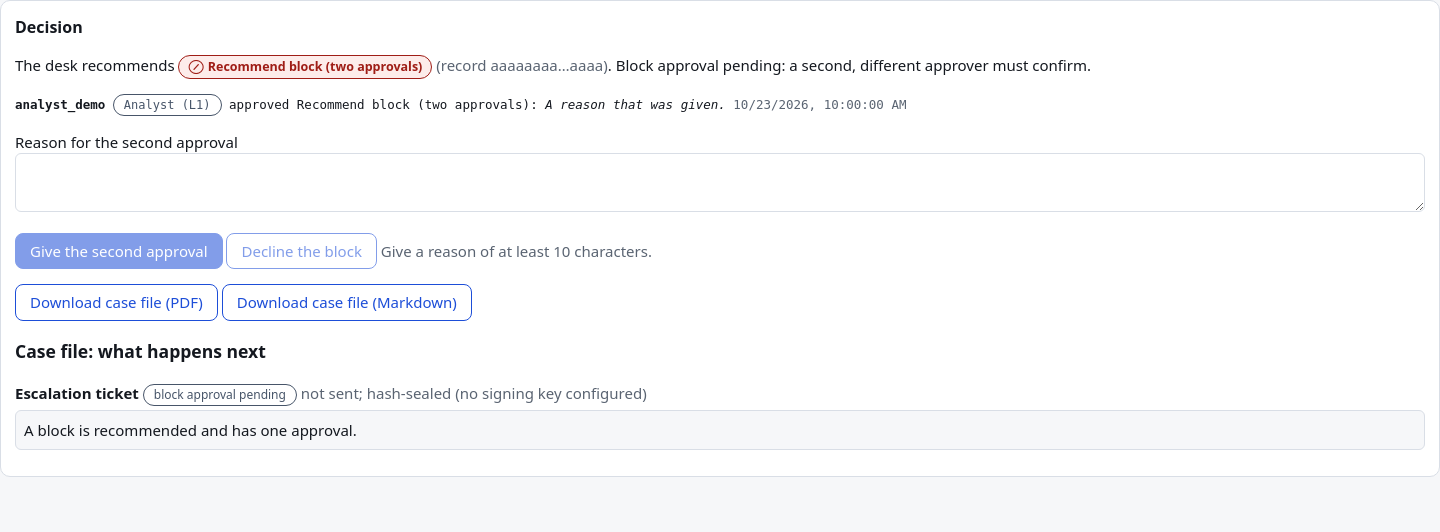
greyed-out buttons › greys out the second approval for an analyst, and says a refused one plainly
Expected: the button "Give the second approval" is disabled, 15,232 -> 223,269
Step 1. Type "Confirmed after reading the evidence." into the text box → x=720, y=182, box 15,153 -> 1425,212
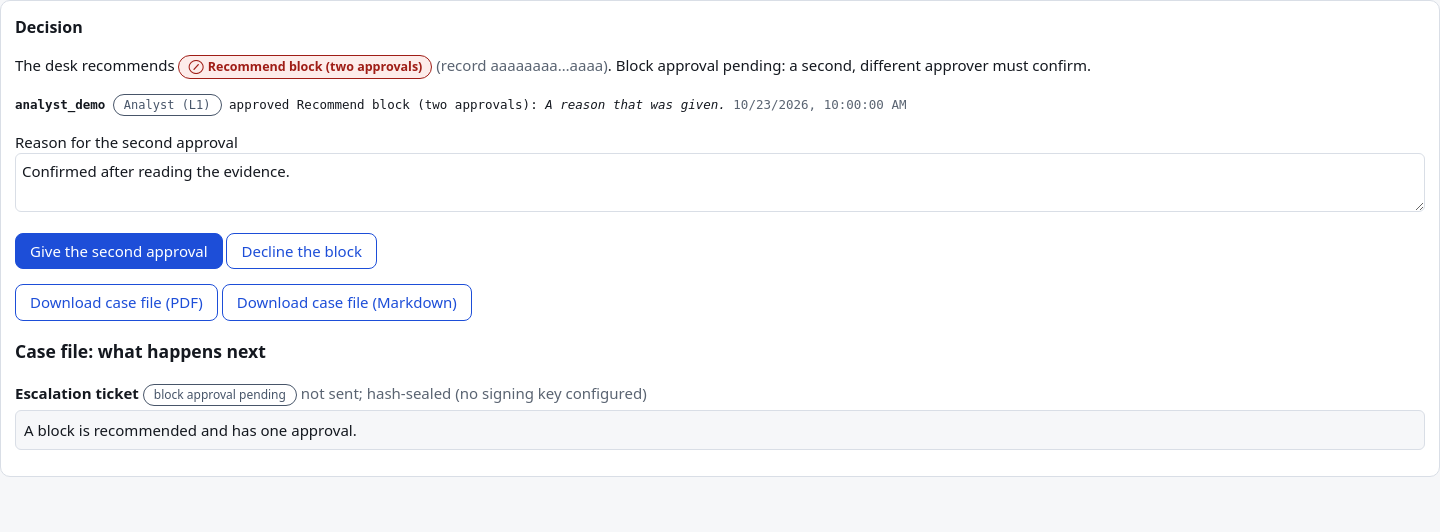
Step 2. Click the button "Give the second approval" → x=119, y=251, box 15,232 -> 223,269
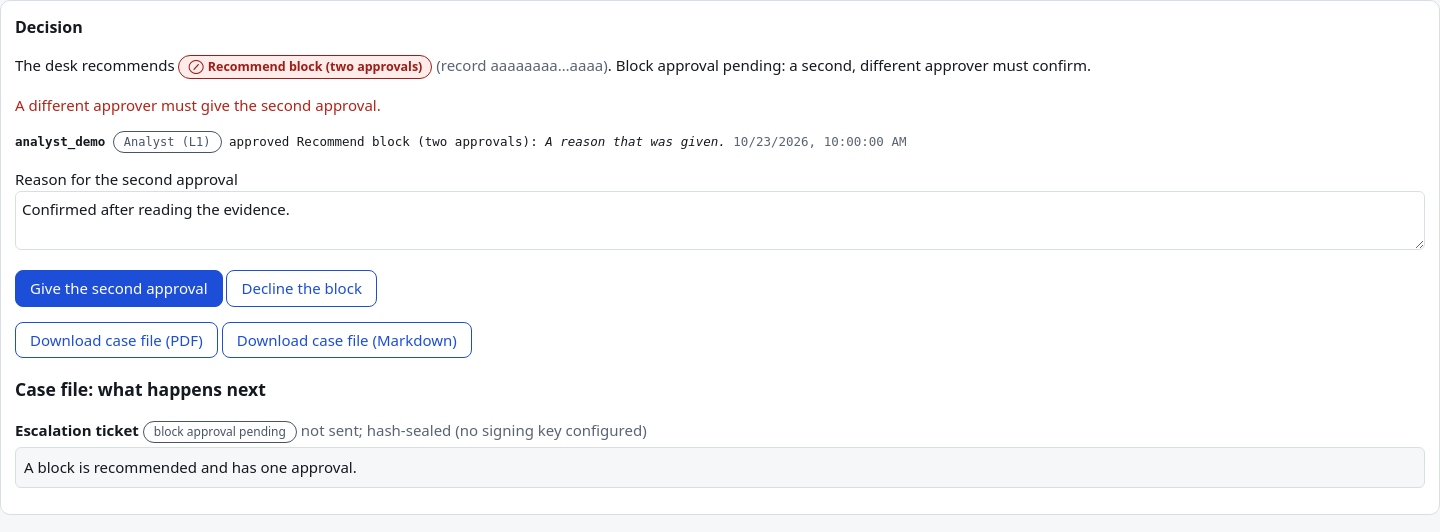
Now the message reads "A different approver must give the second approval.", box 15,94 -> 381,114
